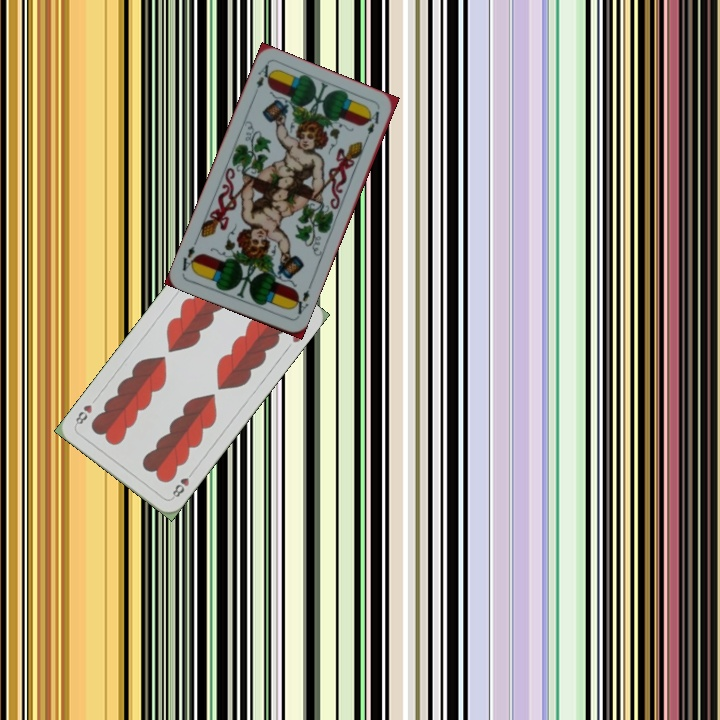EA: (288, 281, 314, 320), (249, 60, 275, 99)
H8: (168, 466, 197, 501)
